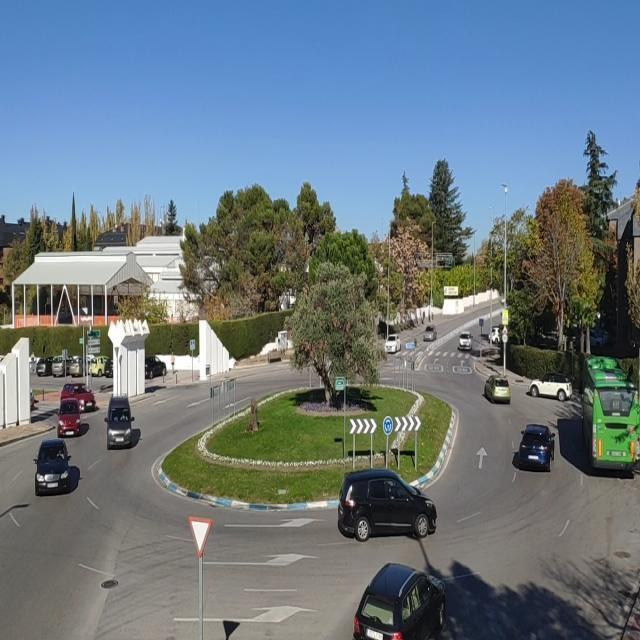Bus: (580, 354, 640, 474)
Car: (352, 562, 447, 639), (338, 470, 438, 542), (33, 440, 75, 495), (517, 422, 555, 472), (104, 397, 136, 448), (528, 370, 573, 400), (56, 400, 86, 438), (60, 383, 96, 413), (483, 375, 511, 404), (144, 356, 167, 379), (69, 355, 92, 377), (87, 356, 110, 377), (52, 355, 73, 377), (590, 328, 610, 347), (35, 356, 54, 376), (384, 334, 401, 354), (458, 332, 472, 351), (490, 325, 502, 345), (423, 326, 437, 342), (105, 356, 114, 377)
